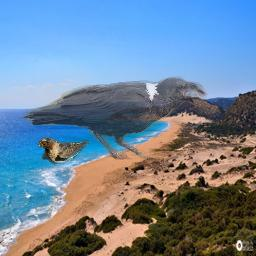Crow: (21, 75, 208, 161)
Swallow: (38, 137, 90, 165)
